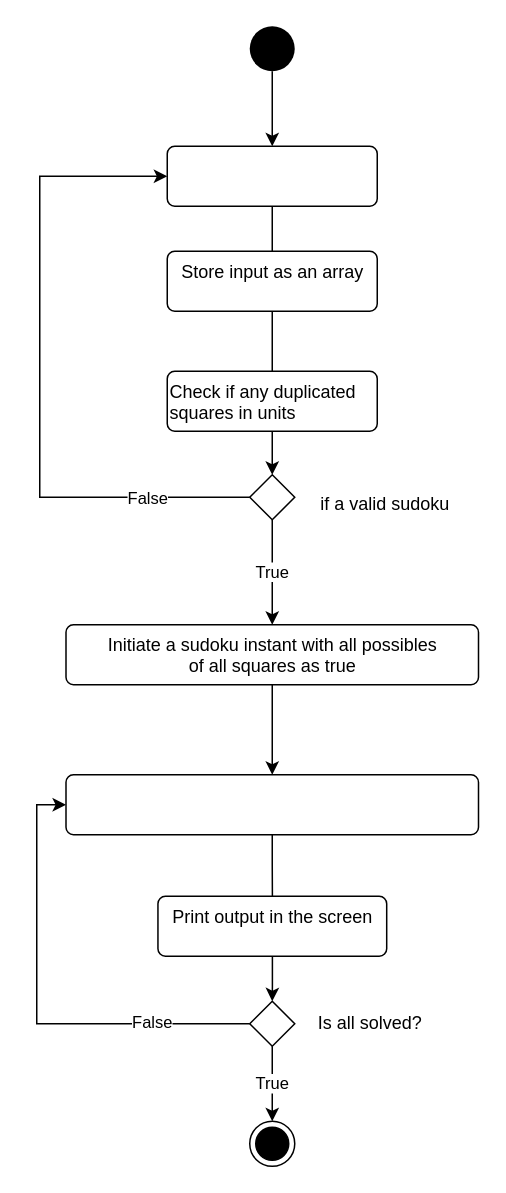
Some shapes in this 506 by 1193 pixel diagram are drawn without their labels. The box of each missing label's shape, as (x1, y1, x2, y2) in pixels:
Get input sudoku from array or text: (166, 145, 377, 206)
Take a num from input array to eliminate possibles for the array[i]: (64, 773, 478, 835)
